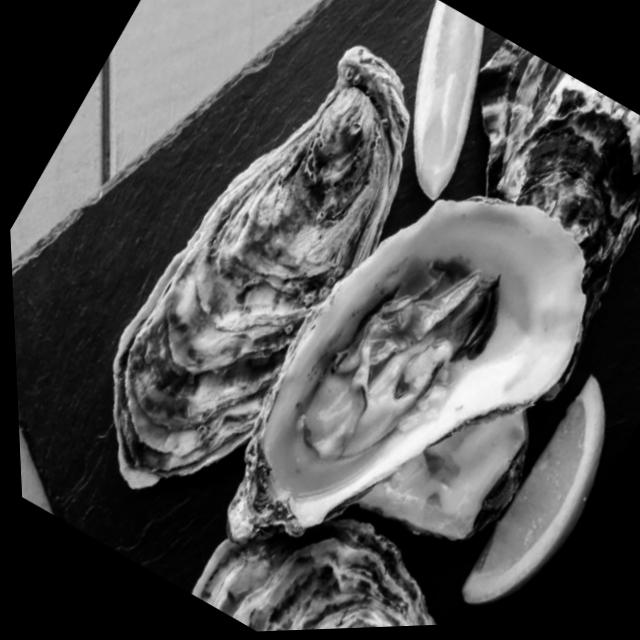Oyster-Indeterminate: (38, 7, 479, 542), (383, 29, 640, 340), (184, 451, 530, 634)
Oyster-Open: (178, 127, 640, 634)
